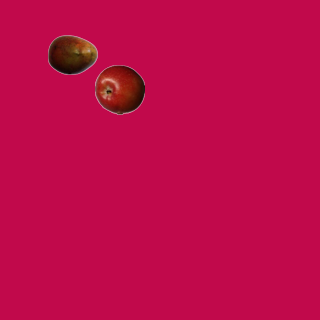Apple Braeburn: (94, 64, 144, 114)
Mango Red: (47, 29, 97, 79)
